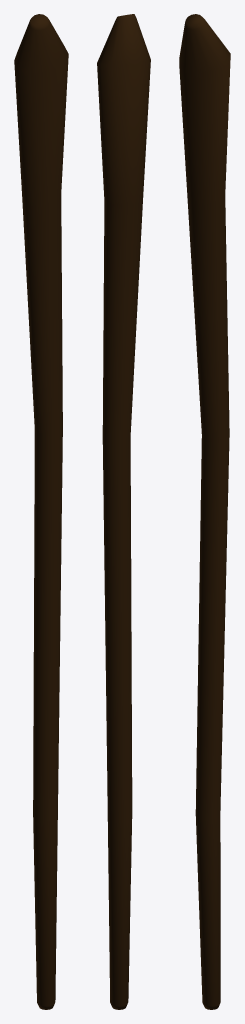
Rendered from darkwood_staff.glb.
3 views of the same model, side by side, from view 1: azimuth 30°, elevation 25°; view 2: azimuth 210°, elevation 25°; view 3: azimuth 330°, elevation 25° (orthographic).
Visible parts, largest first — view 1: Cube; view 2: Cube; view 3: Cube.
Boxes of the visible parts, x1,y1,x2,y2 form: Cube: (14, 14, 68, 1009); Cube: (97, 14, 150, 1009); Cube: (179, 14, 230, 1009).
Bounding box in the file's own units: 0.0472 × 0.9222 × 0.0365.
